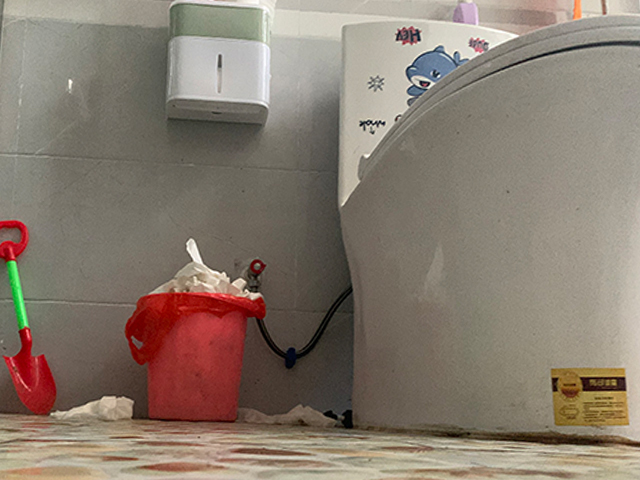closestool: (335, 14, 640, 443)
trashcan: (135, 291, 255, 423)
